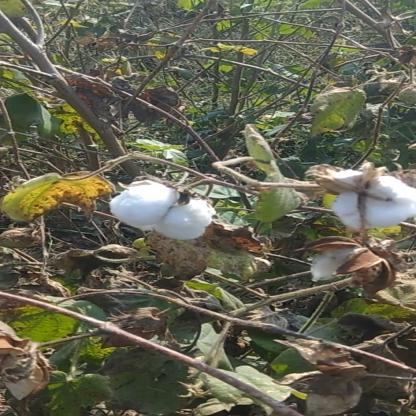cotton_ready: (104, 170, 226, 248), (314, 158, 416, 242)
